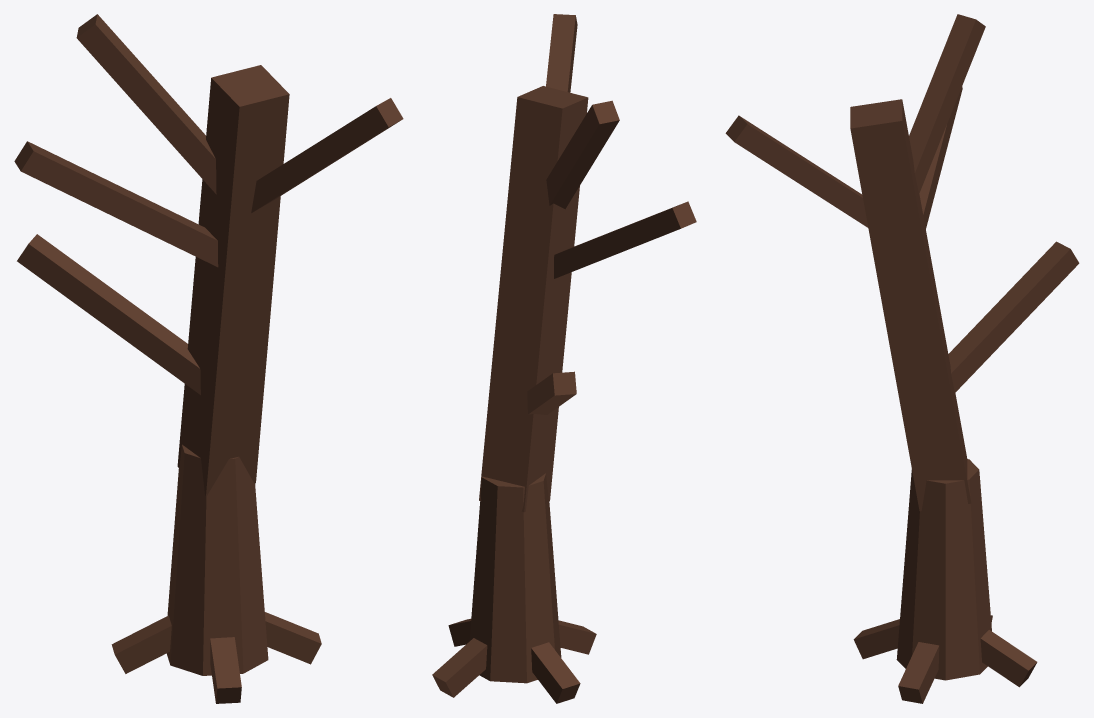
Rendered from tree_rustwood_l_trunk.fbx.
3 views of the same model, side by side, from view 1: azimuth 30°, elevation 25°; view 2: azimuth 150°, elevation 25°; view 3: azimuth 270°, elevation 25° (orthographic). The views are drawn at different scales.
Parts seen in each view (by area): view 1: tree_rustwood_l_trunk; view 2: tree_rustwood_l_trunk; view 3: tree_rustwood_l_trunk.
Part boxes in pixels (x1=…): tree_rustwood_l_trunk: x1=14, y1=14, x2=403, y2=703; tree_rustwood_l_trunk: x1=432, y1=14, x2=696, y2=703; tree_rustwood_l_trunk: x1=725, y1=14, x2=1079, y2=703.
Size of the model in its own units: 1282 by 2842 by 1510.
